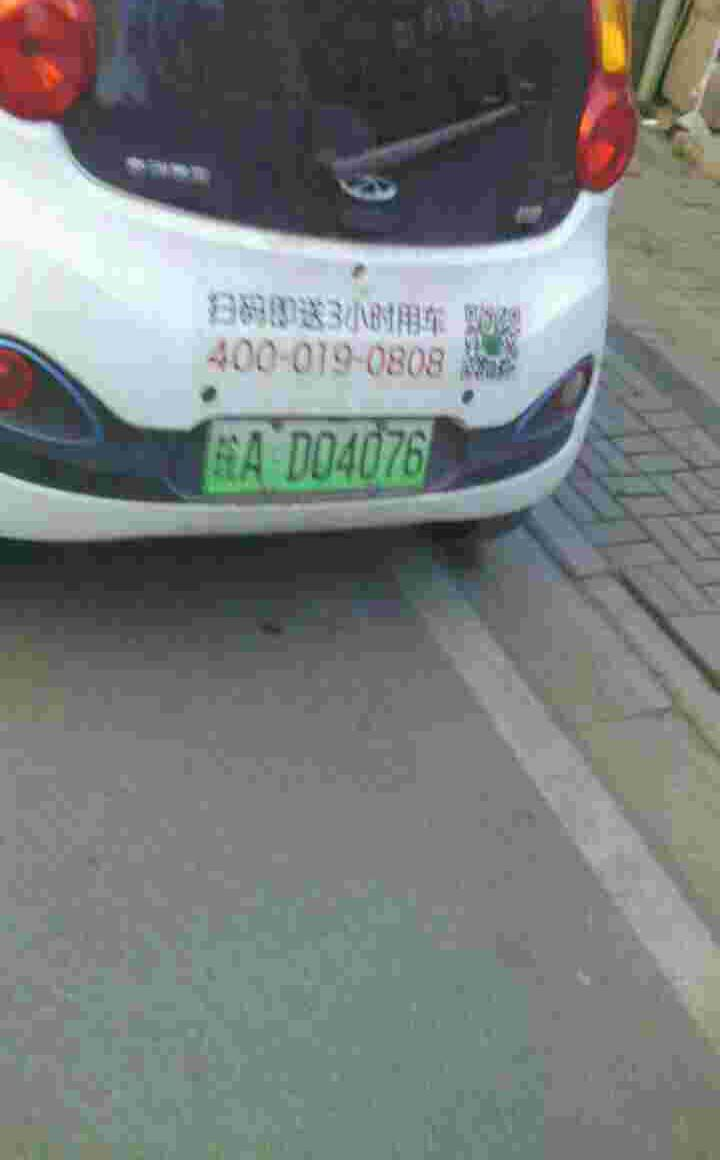car: (210, 413, 432, 493)
